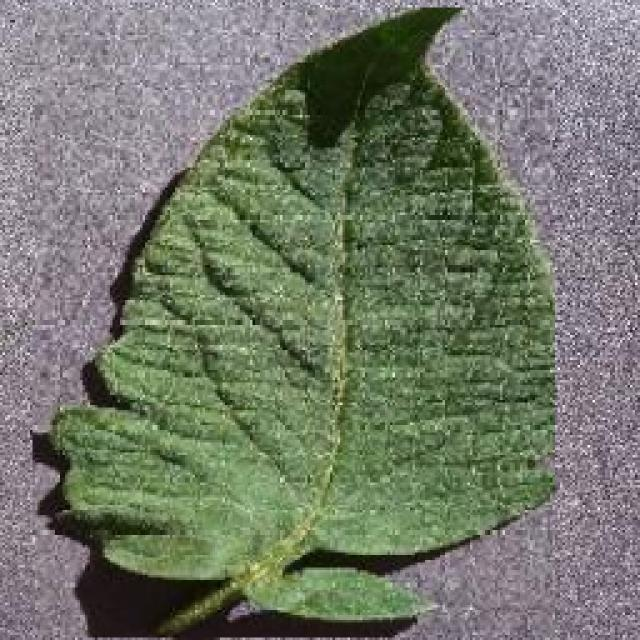Healthy: (33, 8, 555, 638)
